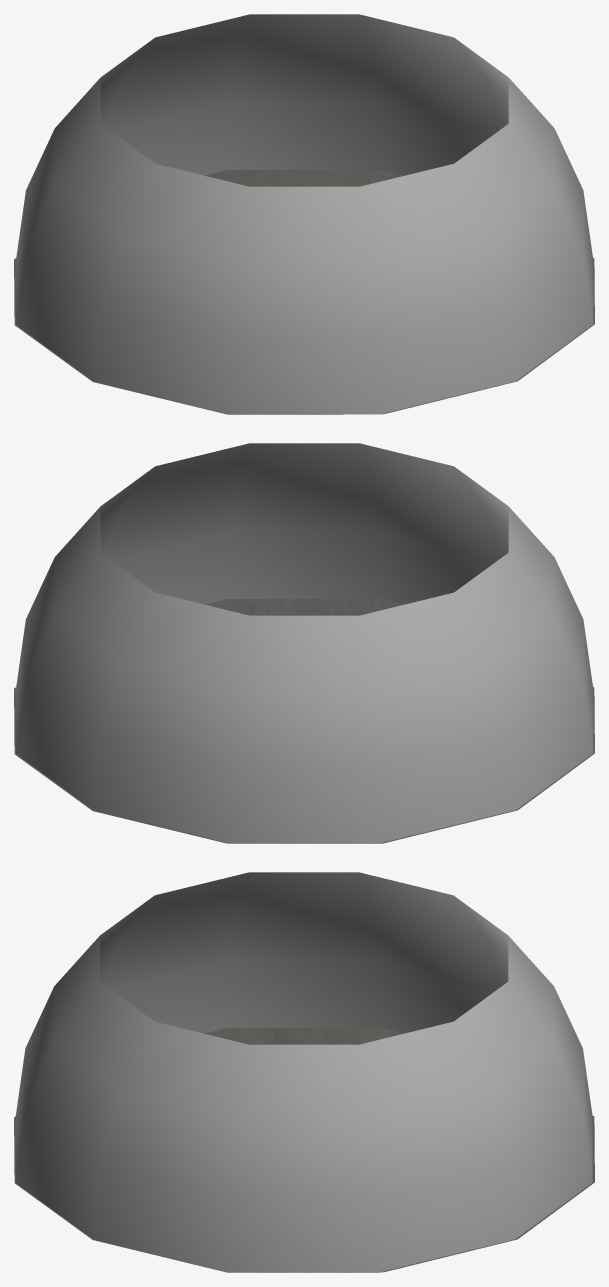
File: hanger_small.fbx
3 renders of one model, top to bottom at view 1: azimuth 30°, elevation 25°; view 2: azimuth 150°, elevation 25°; view 3: azimuth 270°, elevation 25°, orthographic.
Parts seen in each view (by area): view 1: hanger_small_dome, hanger_small_base; view 2: hanger_small_dome, hanger_small_base; view 3: hanger_small_dome, hanger_small_base.
Boxes of the visible parts, <box> form: hanger_small_dome: <box>16,14,593,413</box>; hanger_small_base: <box>14,170,594,414</box>; hanger_small_dome: <box>16,443,593,842</box>; hanger_small_base: <box>14,599,594,843</box>; hanger_small_dome: <box>15,872,592,1271</box>; hanger_small_base: <box>14,1028,594,1272</box>.
Size of the model in its own units: 288 by 105 by 288.
